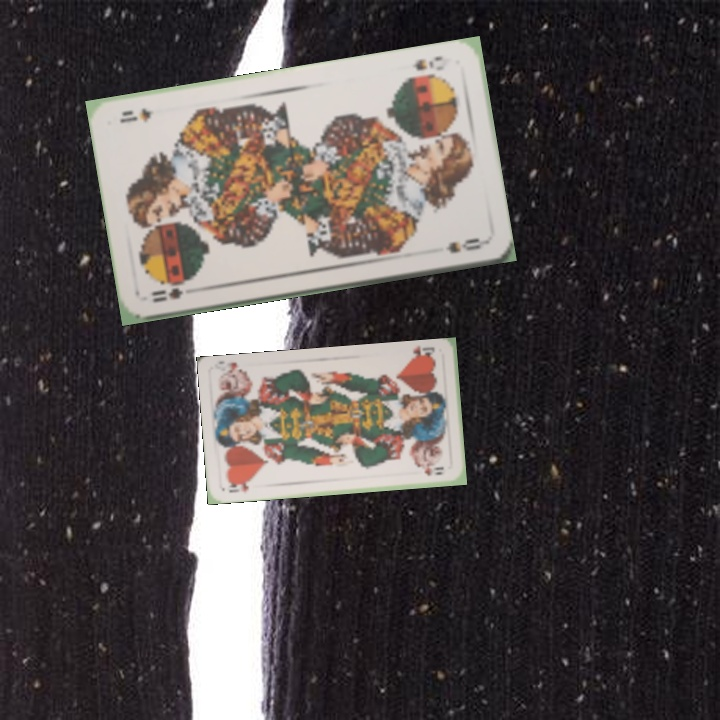HO: (405, 342, 438, 363), (224, 479, 251, 496)
SO: (147, 280, 188, 305), (410, 52, 453, 74)
